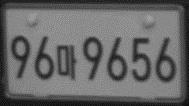5: (130, 37, 151, 82)
6: (104, 35, 128, 82), (154, 35, 177, 83), (33, 36, 54, 81)
9: (81, 35, 103, 81), (10, 34, 30, 79)
마: (55, 43, 77, 81)
